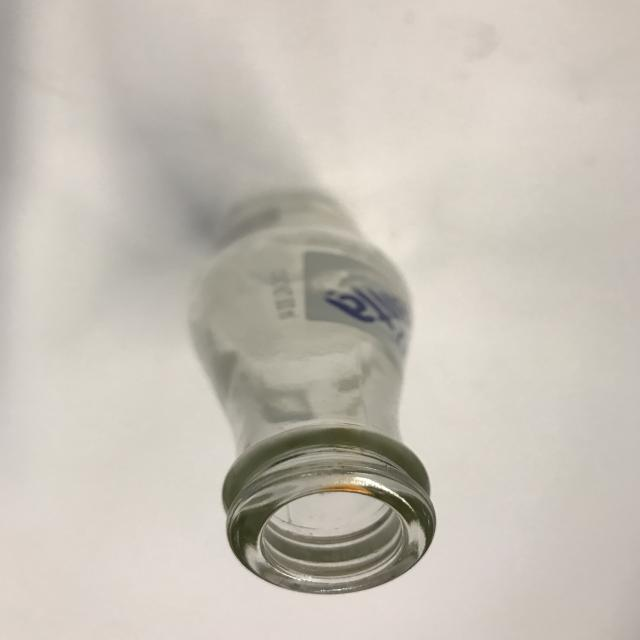glass: (184, 186, 438, 594)
